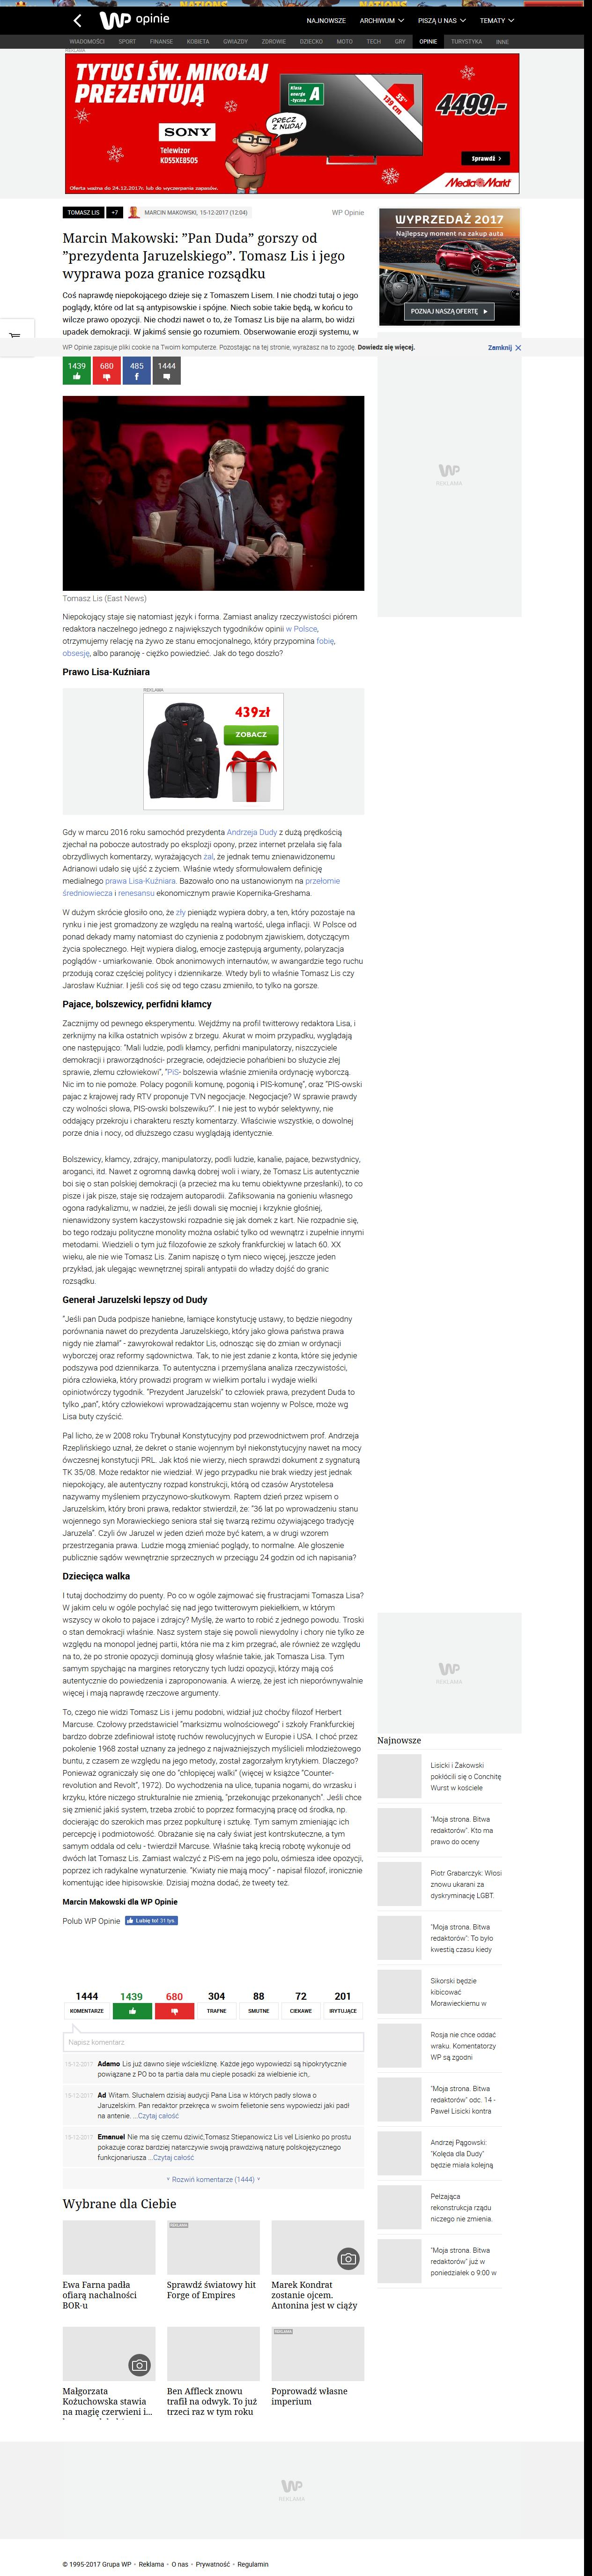title: (61, 232, 345, 283)
